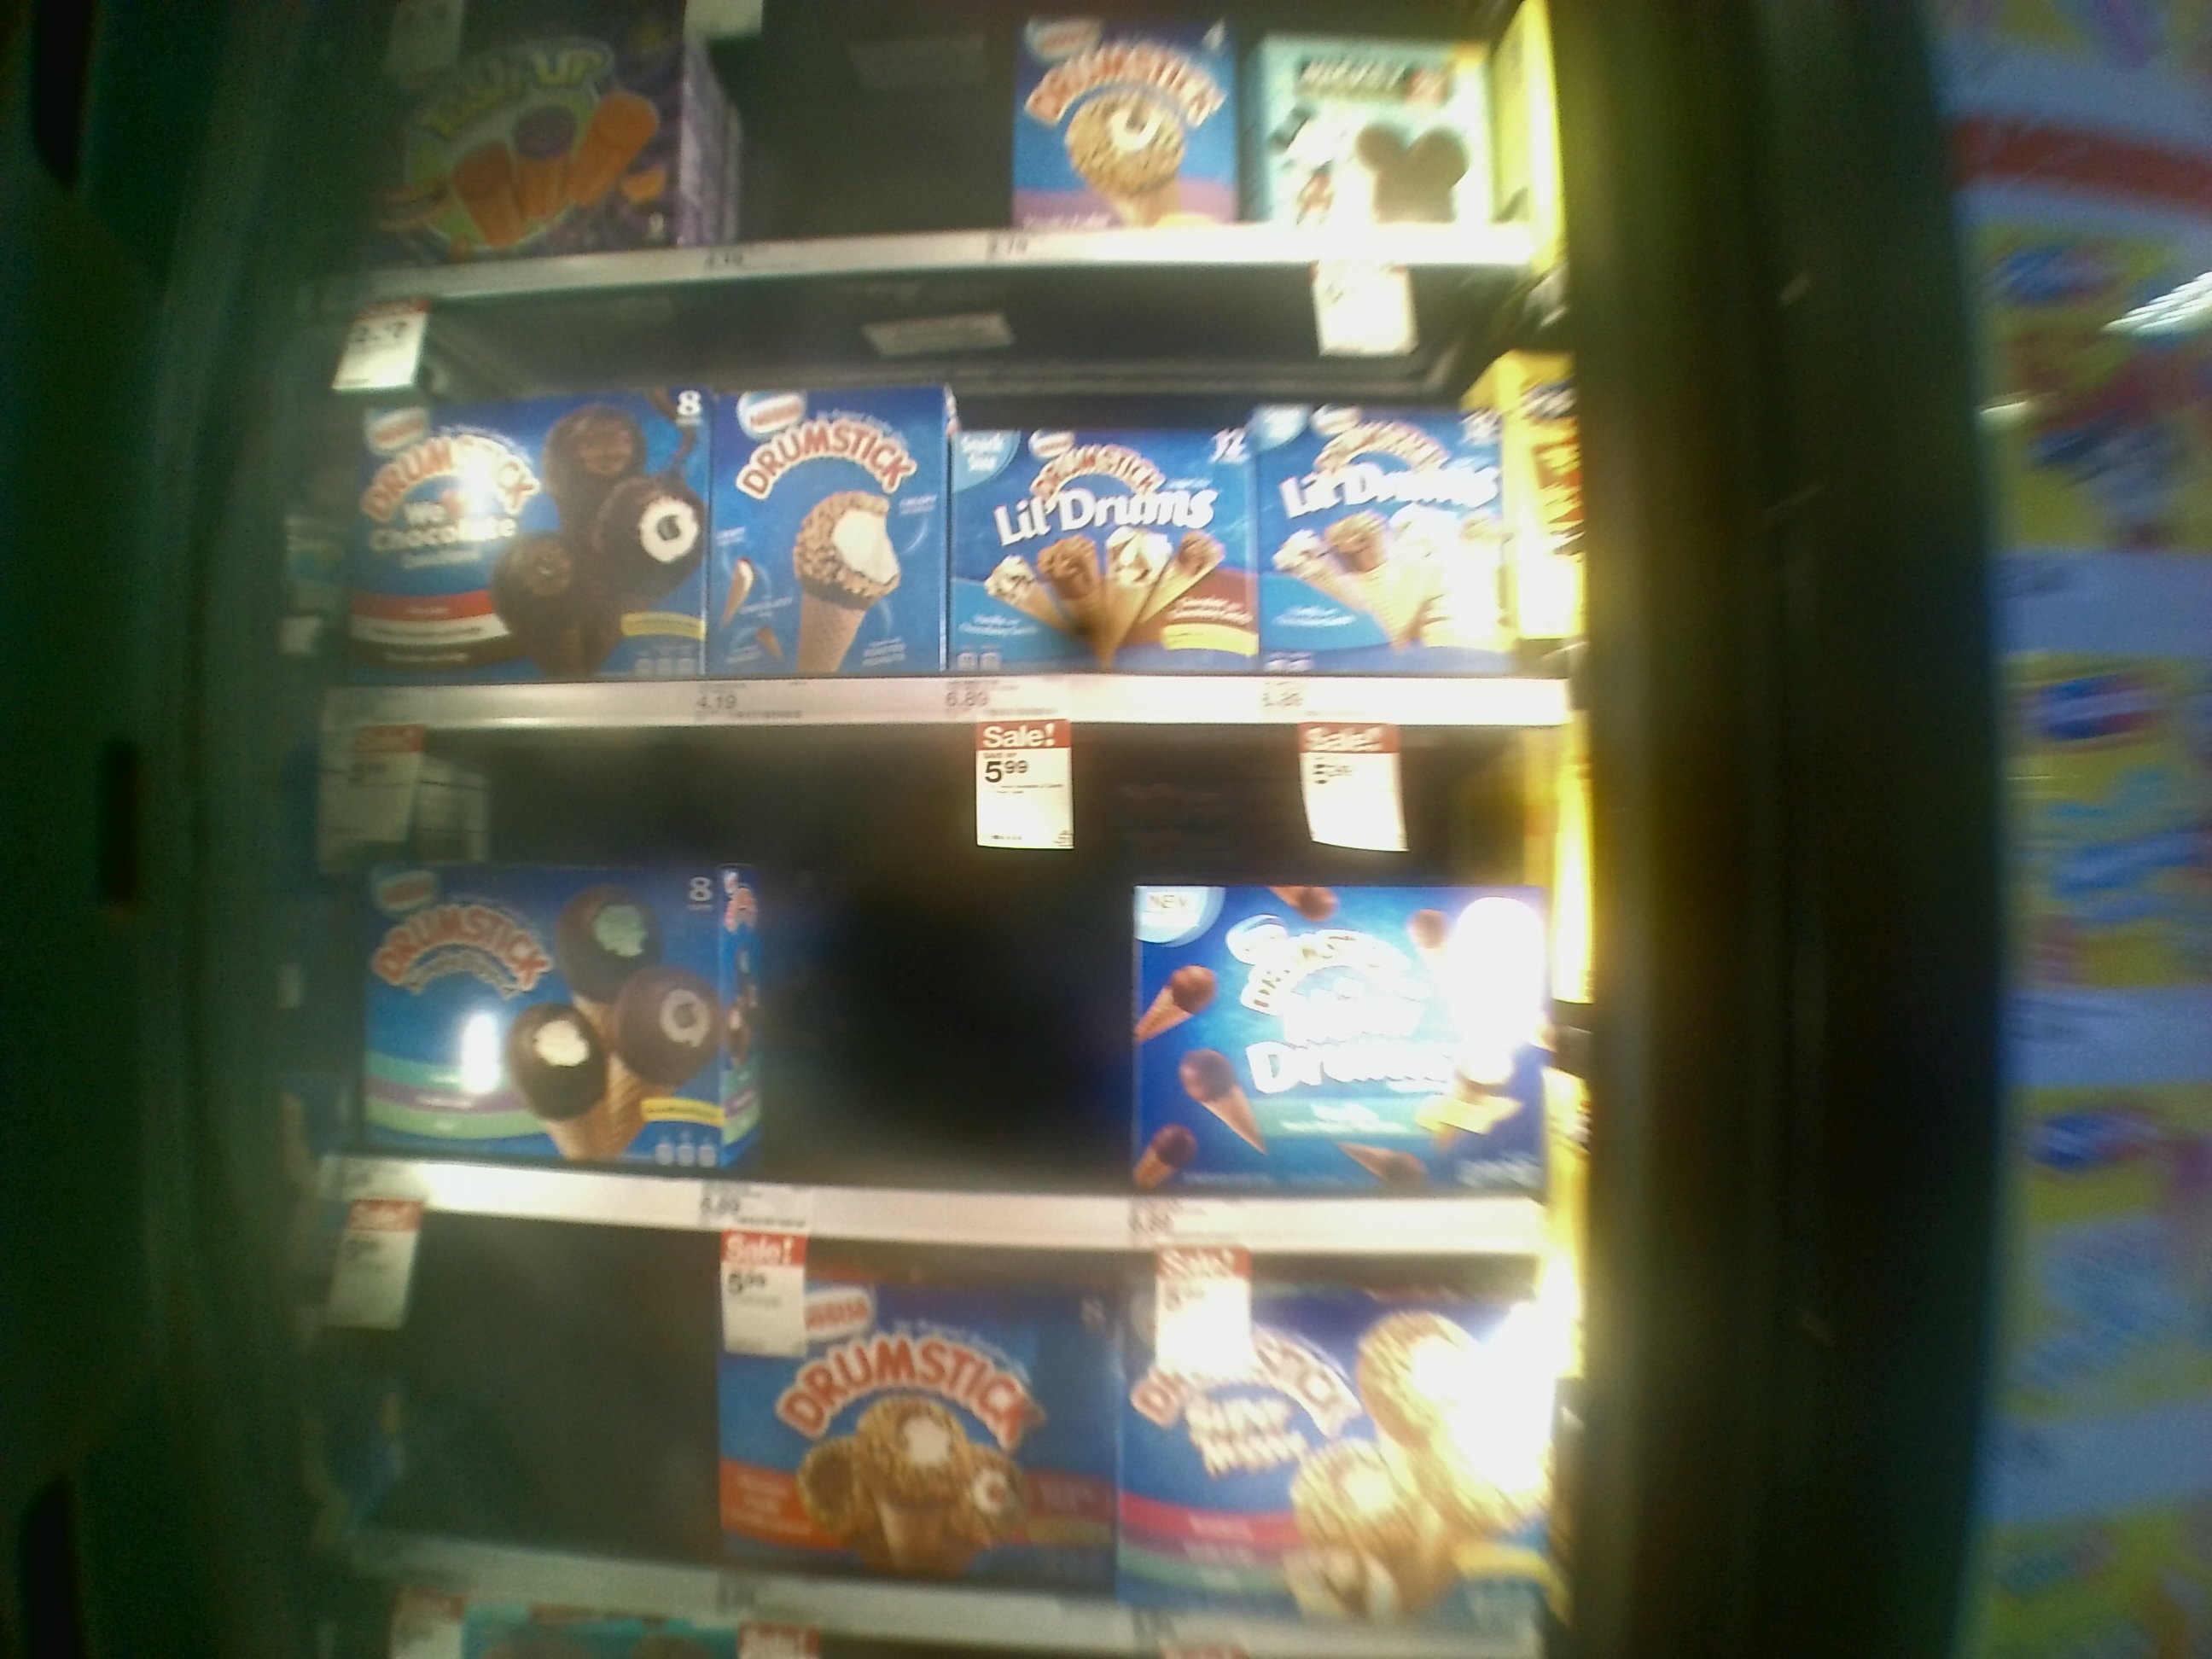shelf: (320, 727, 1581, 1244), (324, 272, 1587, 728)
